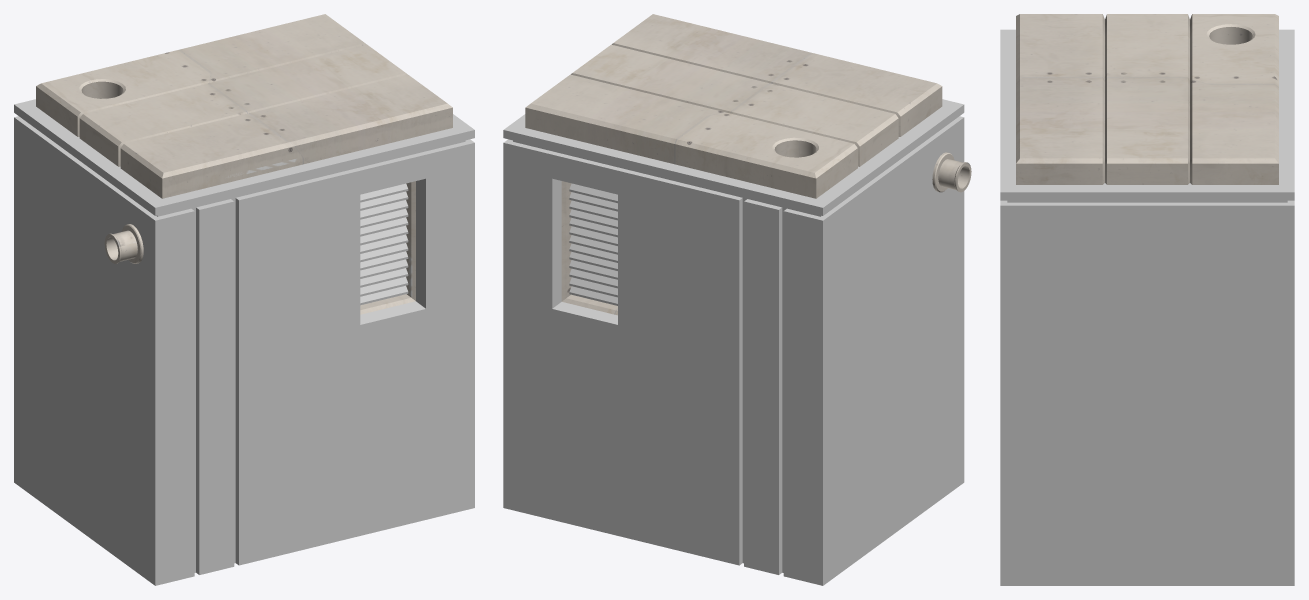
Rendered from KB3D_CBP_ACunit_K.fbx.
3 renders of one model, left to right at view 1: azimuth 30°, elevation 25°; view 2: azimuth 150°, elevation 25°; view 3: azimuth 270°, elevation 25°, orthographic. The views are drawn at different scales.
Parts seen in each view (by area): view 1: KB3D_CBP_ACunit_K_Main; view 2: KB3D_CBP_ACunit_K_Main; view 3: KB3D_CBP_ACunit_K_Main.
Part boxes in pixels (box(x1,y1,x2,y2)): KB3D_CBP_ACunit_K_Main: box(14, 14, 474, 585); KB3D_CBP_ACunit_K_Main: box(503, 14, 971, 585); KB3D_CBP_ACunit_K_Main: box(1000, 14, 1294, 585).
Size of the model in its own units: 315 by 355 by 226.
